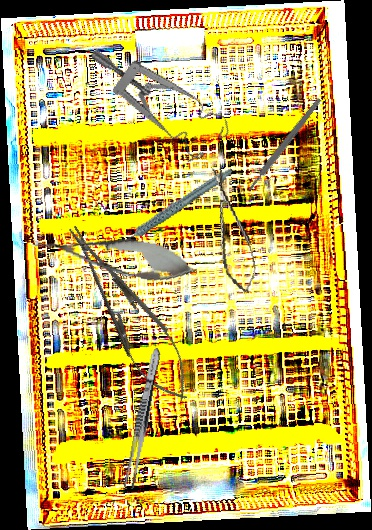Dressing Forceps: (122, 346, 164, 491)
Handpiece: (106, 167, 242, 245)
Micro Scissor: (27, 223, 201, 289), (204, 162, 261, 297)
Needle Holder: (51, 213, 206, 413)
Scalpel Handle: (246, 97, 323, 192)
Speculum: (89, 11, 237, 180)
